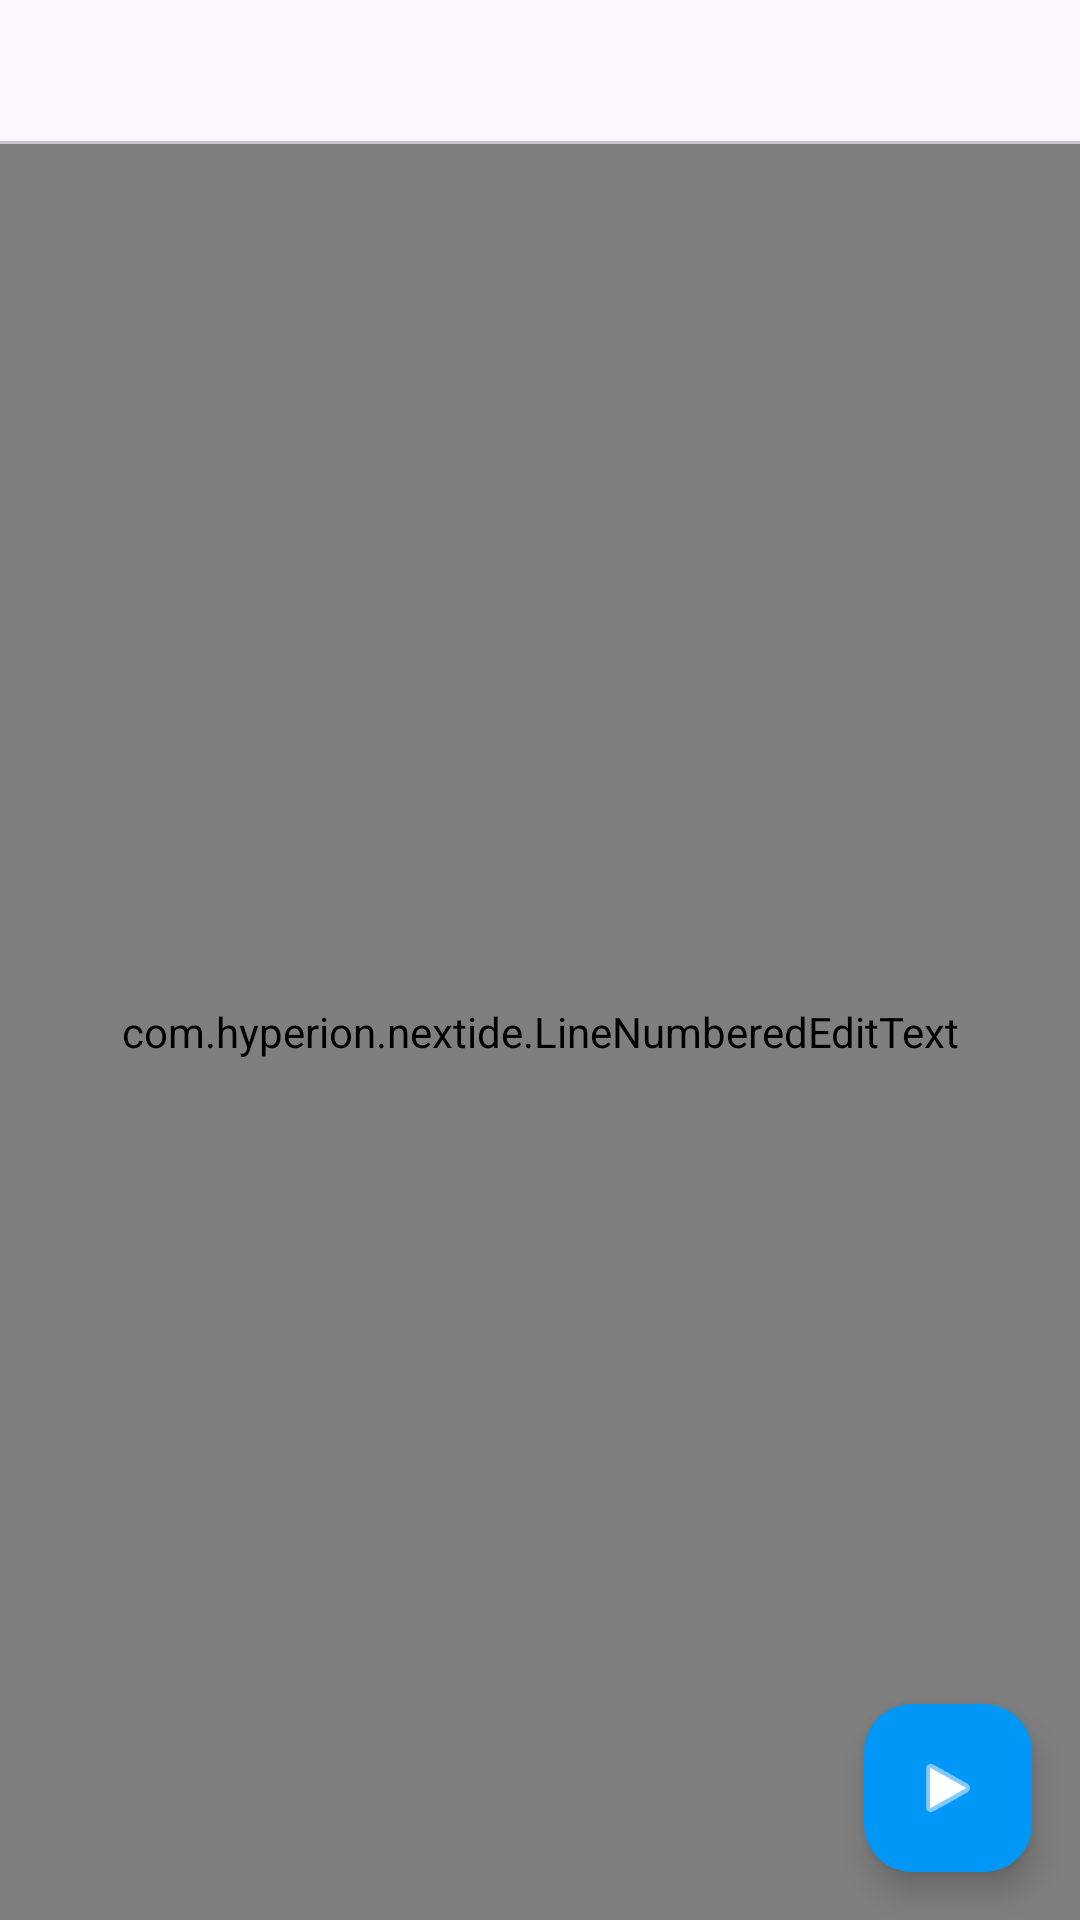

Where icons sit on this 1080px x 1920px app screen, as bbox=[x1, y1, x2, y2]:
Run Project: bbox=[864, 1704, 1032, 1872]
